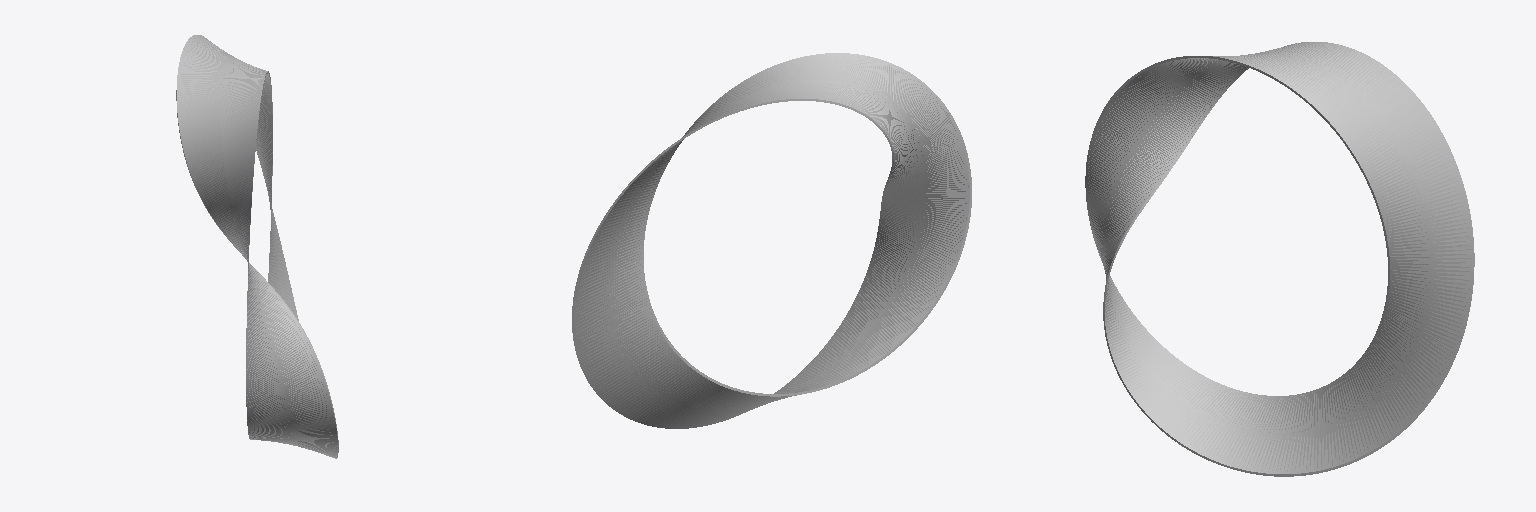
File: mobius_strip.obj
The picture shows the model from 3 angles: view 1: azimuth 30°, elevation 25°; view 2: azimuth 150°, elevation 25°; view 3: azimuth 270°, elevation 25°; orthographic projection.
Parts seen in each view (by area): view 1: mobius_strip; view 2: mobius_strip; view 3: mobius_strip.
Part boxes in pixels (x1,y1,x2,y2): mobius_strip: (176,35,338,458); mobius_strip: (572,53,971,428); mobius_strip: (1085,42,1474,476).
Bounding box in the file's own units: 2.53 × 4.29 × 3.99.